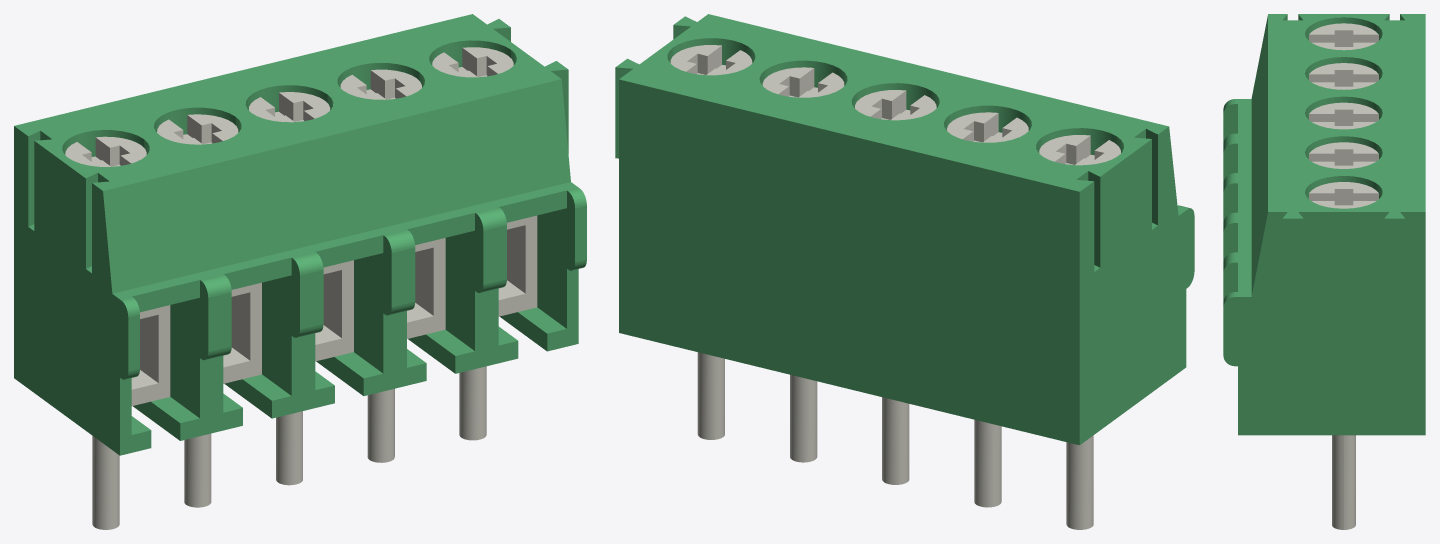
File: kc-terminalblock_phoenix_pt-1_5-5-3.5-h_1x05_p3.50mm_horizontal.glb
3 views of the same model, side by side, from view 1: azimuth 30°, elevation 25°; view 2: azimuth 150°, elevation 25°; view 3: azimuth 270°, elevation 25° (orthographic). The views are drawn at different scales.
Visible parts, largest first — view 1: 0.08333333333333333_0.4166666666666667_0.16666666666666666_0, 0.6666666666666666_0.6666666666666666_0.5833333333333334_0.8; view 2: 0.08333333333333333_0.4166666666666667_0.16666666666666666_0, 0.6666666666666666_0.6666666666666666_0.5833333333333334_0.8; view 3: 0.08333333333333333_0.4166666666666667_0.16666666666666666_0, 0.6666666666666666_0.6666666666666666_0.5833333333333334_0.8.
Boxes of the visible parts, left/top/right/bottom form: 0.08333333333333333_0.4166666666666667_0.16666666666666666_0: left=14, top=14, right=586, bottom=455; 0.6666666666666666_0.6666666666666666_0.5833333333333334_0.8: left=65, top=47, right=537, bottom=529; 0.08333333333333333_0.4166666666666667_0.16666666666666666_0: left=615, top=14, right=1194, bottom=445; 0.6666666666666666_0.6666666666666666_0.5833333333333334_0.8: left=670, top=45, right=1120, bottom=529; 0.08333333333333333_0.4166666666666667_0.16666666666666666_0: left=1223, top=14, right=1425, bottom=435; 0.6666666666666666_0.6666666666666666_0.5833333333333334_0.8: left=1309, top=23, right=1378, bottom=529.
Bounding box in the file's own units: 1.81 × 1.37 × 0.7549.
